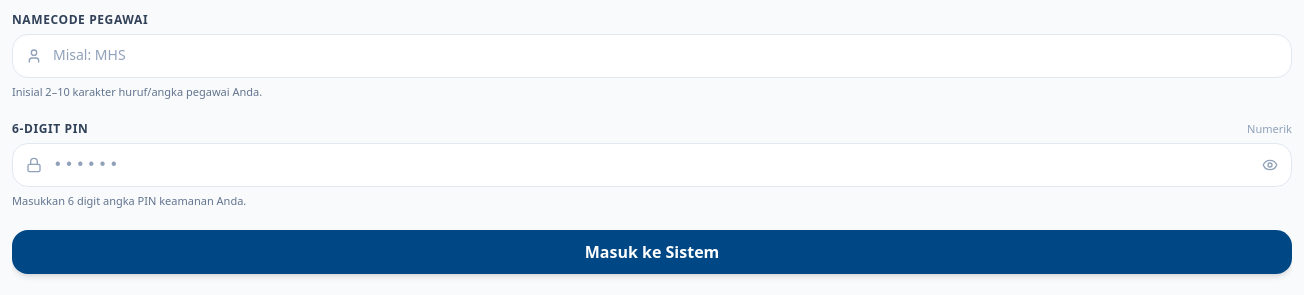
Auth Login Feature (Task P1.3) Tests › LoginForm Component › validates that PIN must be 6 numeric digits
Step 1. Type "MHS" into the field labelled "Namecode Pegawai" → (652, 56), box [12,34,1292,78]
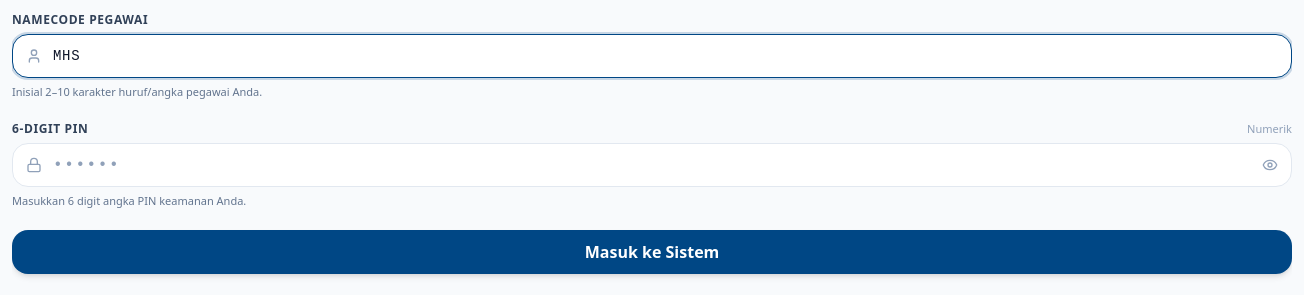
Step 2. Type "12345" into the password field labelled "6-Digit PIN" → (652, 165), box [12,143,1292,187]
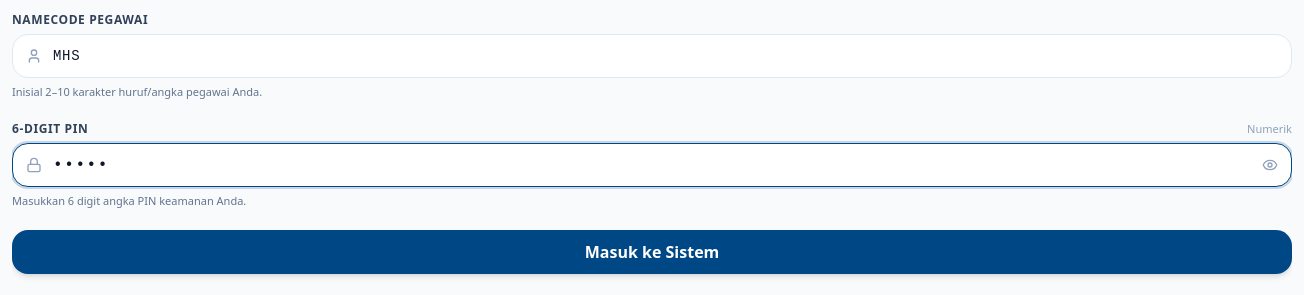
Step 3. Click the button "Masuk ke Sistem" → (652, 252), box [12,230,1292,274]
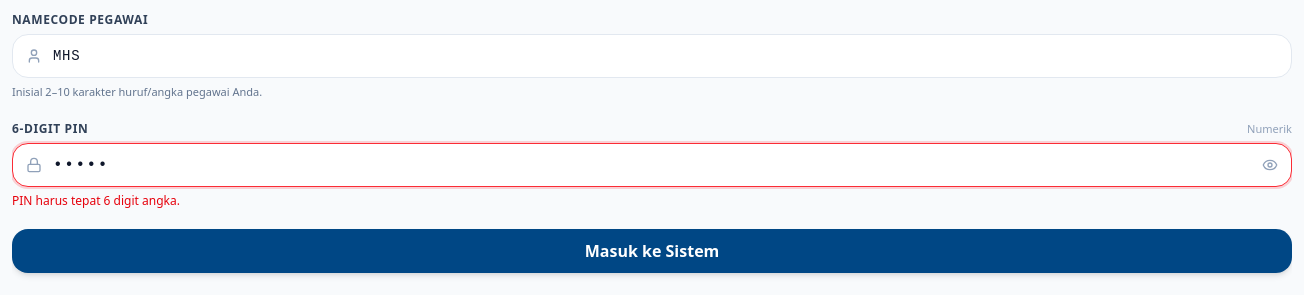
Now the text "PIN harus tepat 6 digit angka." is shown, box [12,192,180,209]
